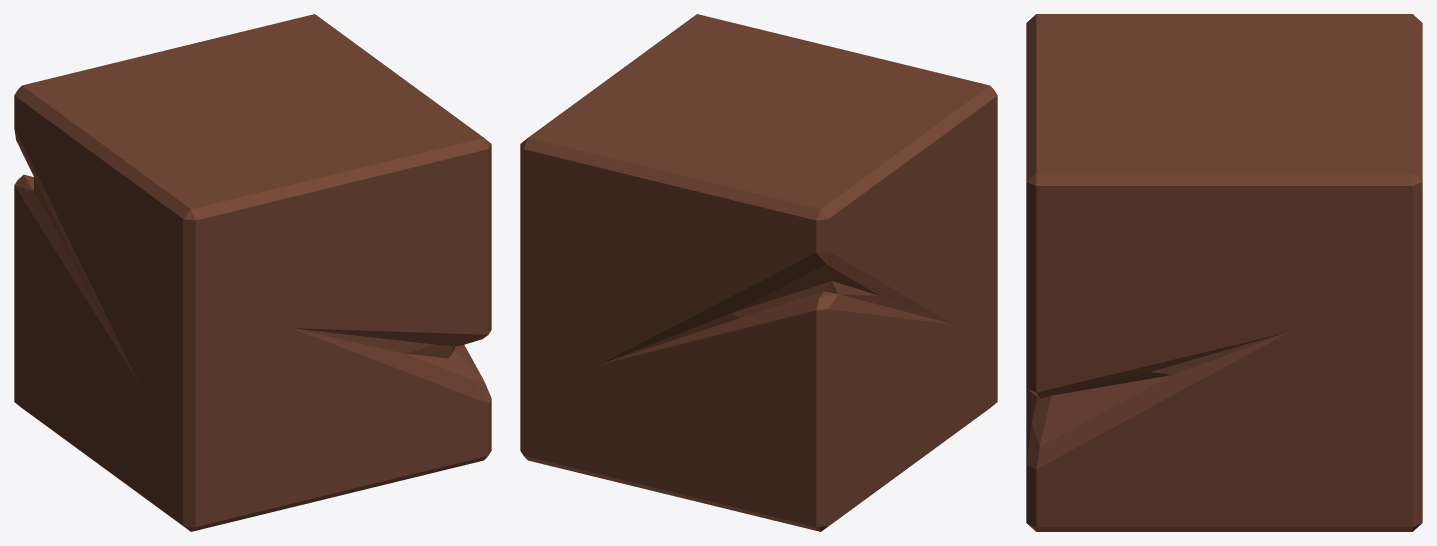
Rendered from ironcube4.fbx.
3 renders of one model, left to right at view 1: azimuth 30°, elevation 25°; view 2: azimuth 150°, elevation 25°; view 3: azimuth 270°, elevation 25°, orthographic. The views are drawn at different scales.
Visible parts, largest first — view 1: ironcube4; view 2: ironcube4; view 3: ironcube4.
Boxes of the visible parts, bbox=[...] form: ironcube4: bbox=[14, 14, 491, 531]; ironcube4: bbox=[520, 14, 997, 531]; ironcube4: bbox=[1026, 14, 1422, 531].
Bounding box in the file's own units: 0.9888 × 0.9888 × 0.9888.
